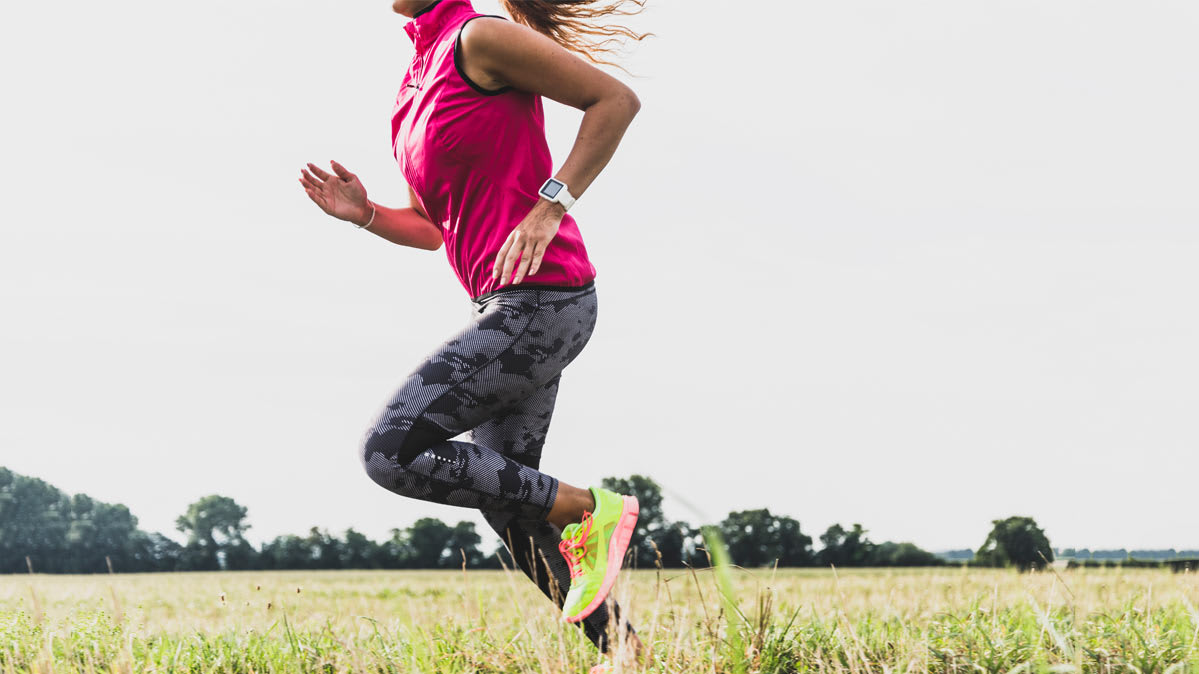feet: (520, 576, 654, 674)
